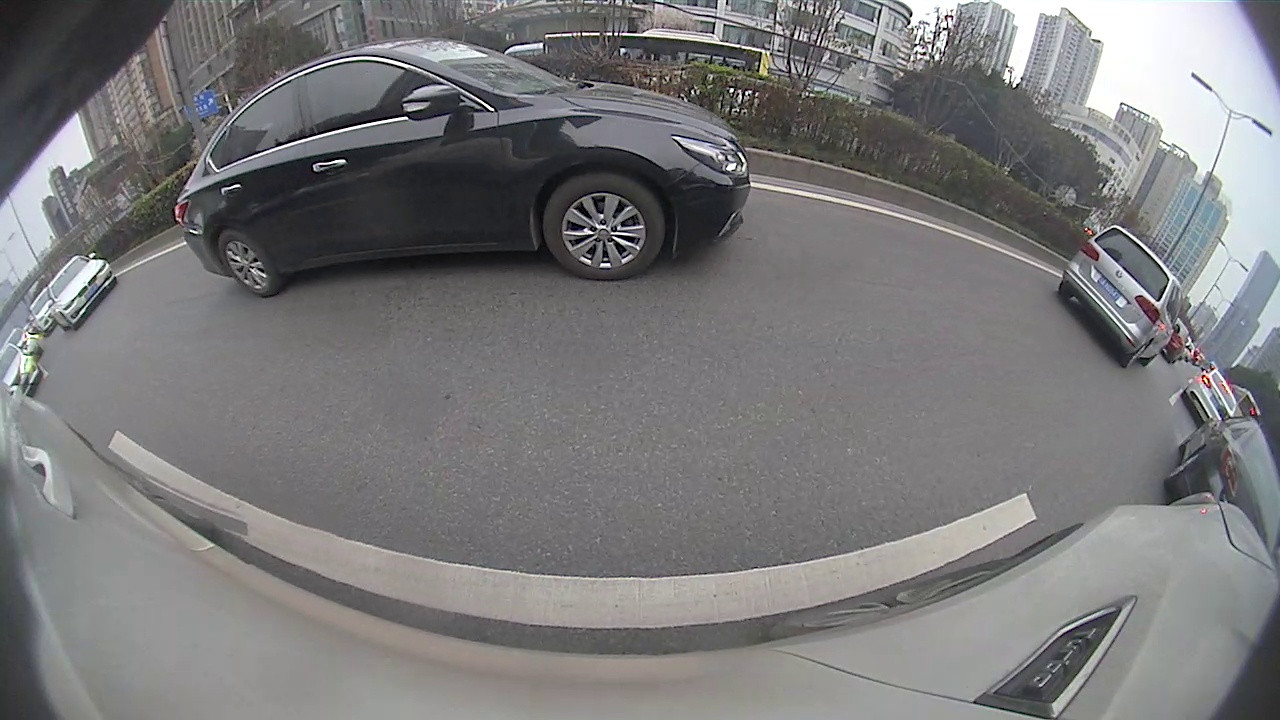car: (173, 38, 754, 300), (1054, 223, 1182, 372), (1162, 403, 1279, 554), (45, 250, 116, 332), (1181, 366, 1239, 431)
front: (545, 178, 663, 282)
rear: (216, 227, 277, 299)
